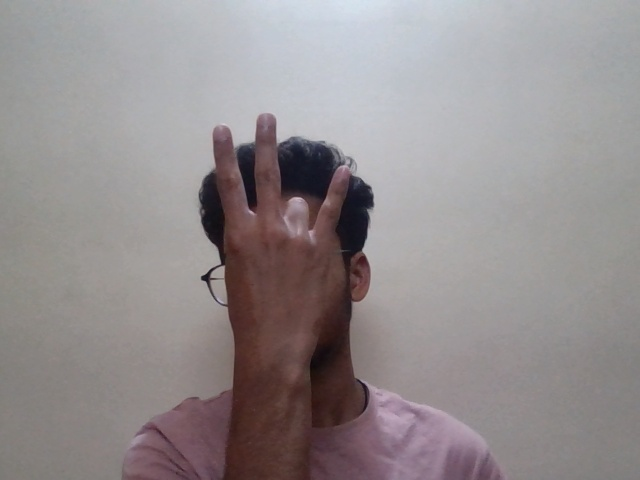why: (200, 117, 370, 364)
